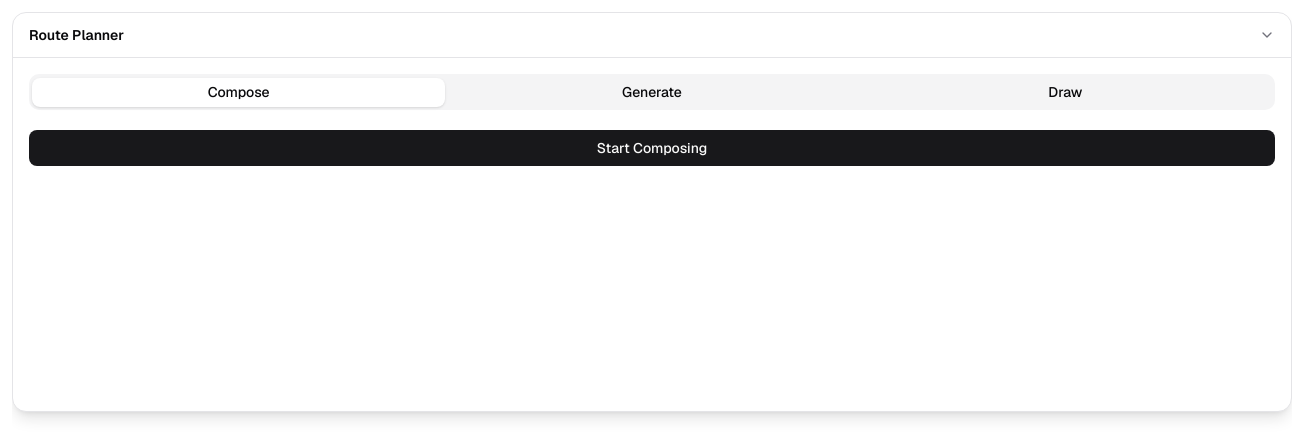
Test: RoutePlanner › switches to Generate tab and shows form
The image size is (1304, 438).
Click the tab "Generate" at (652, 92), box [445, 78, 859, 106]
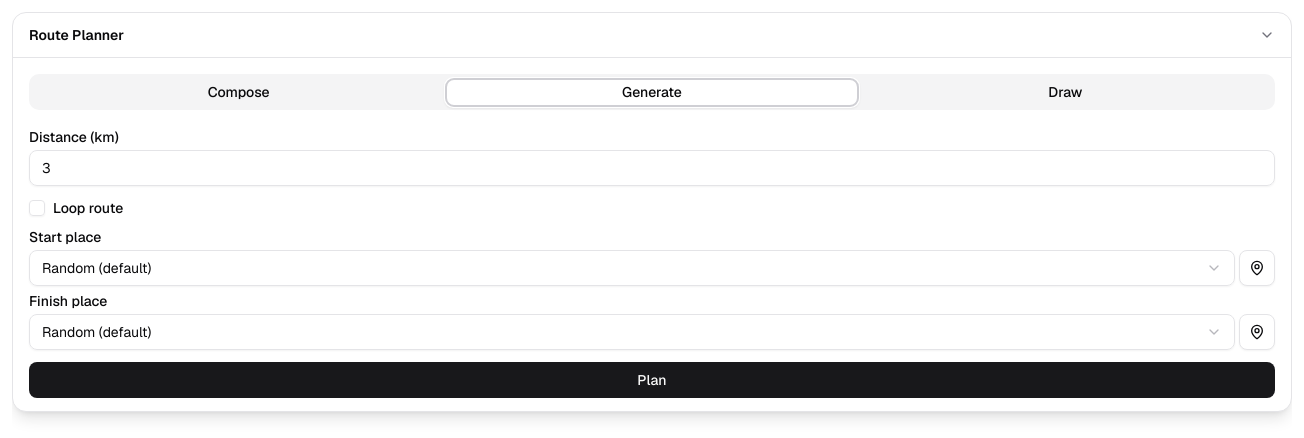
Now the number field labelled "Distance (km)" is shown, box [29, 150, 1275, 186]
Now the button "Plan" is shown, box [29, 362, 1275, 398]
Now the button "Start Composing" is gone
